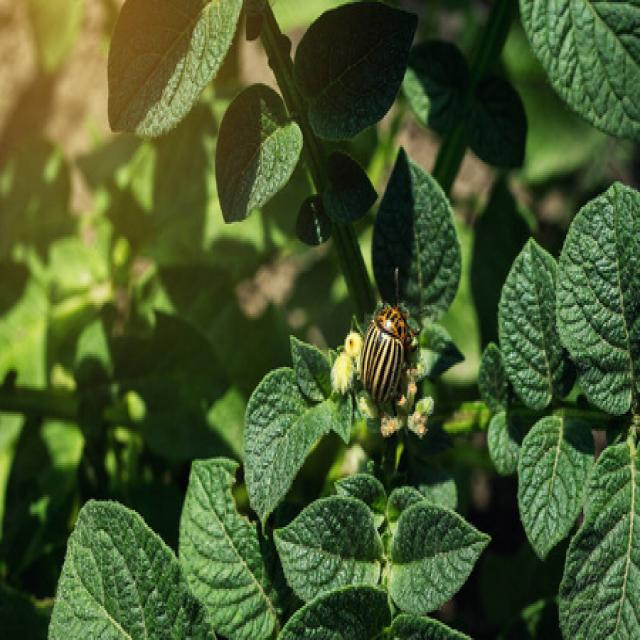ShuCaiHuaBanChong-Grown-: (358, 296, 411, 409)
